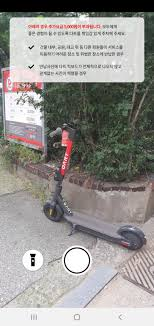kick_board: (43, 120, 140, 245)
kick_handler: (49, 119, 78, 138)
kick_neck: (53, 144, 70, 195)
kick_wheel: (121, 224, 147, 249), (42, 201, 63, 221)
